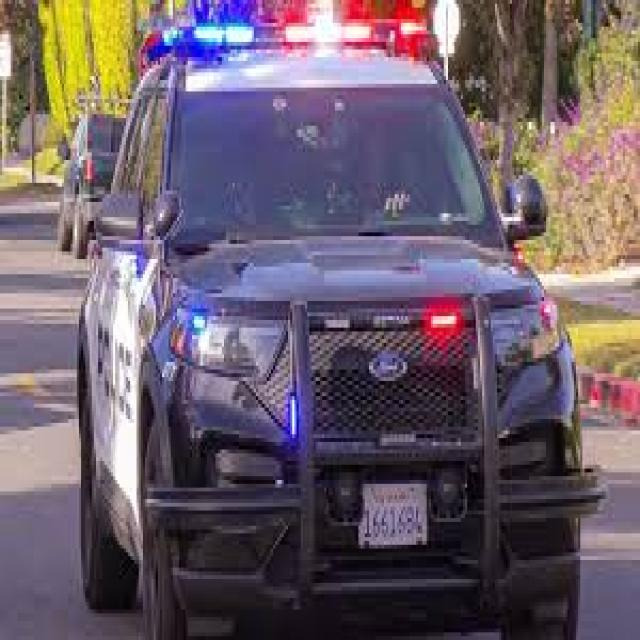cop: (73, 0, 608, 640)
